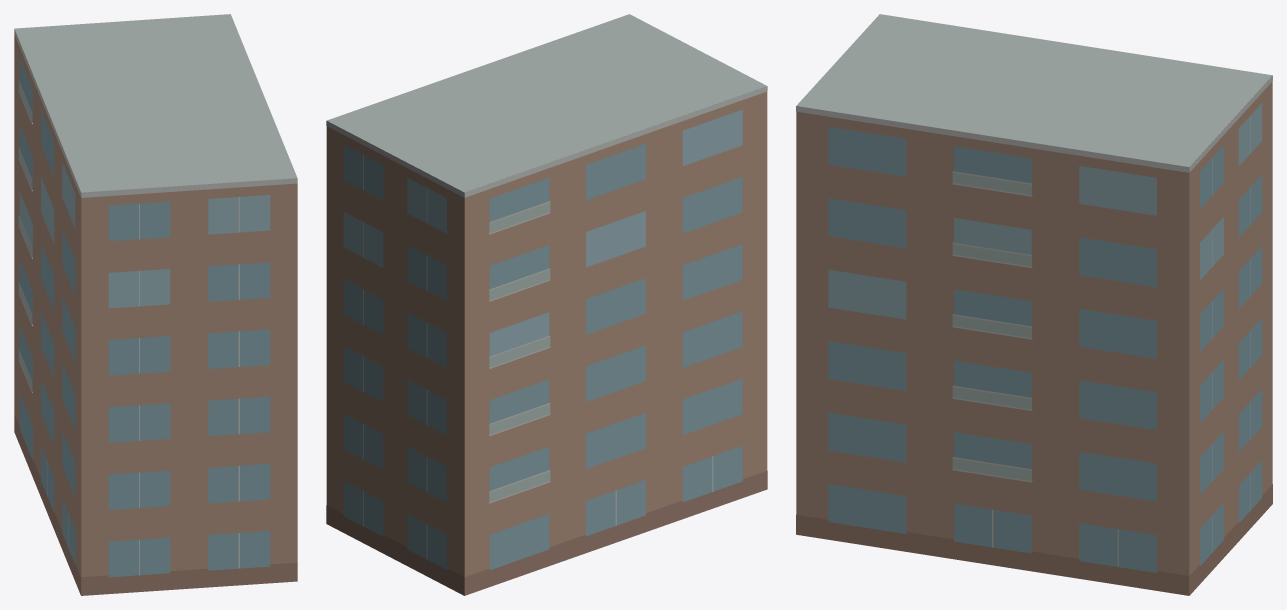
File: survey-upis-32585637.glb
3 renders of one model, left to right at view 1: azimuth 30°, elevation 25°; view 2: azimuth 150°, elevation 25°; view 3: azimuth 270°, elevation 25°, orthographic. The views are drawn at different scales.
Visible parts, largest first — view 1: survey-upis-32585637.tmp; view 2: survey-upis-32585637.tmp; view 3: survey-upis-32585637.tmp.
Boxes of the visible parts, left/top/right/bottom form: survey-upis-32585637.tmp: left=14, top=14, right=297, bottom=595; survey-upis-32585637.tmp: left=326, top=14, right=767, bottom=595; survey-upis-32585637.tmp: left=796, top=14, right=1272, bottom=595.
Bounding box in the file's own units: 14.11 × 18.4 × 18.55.
